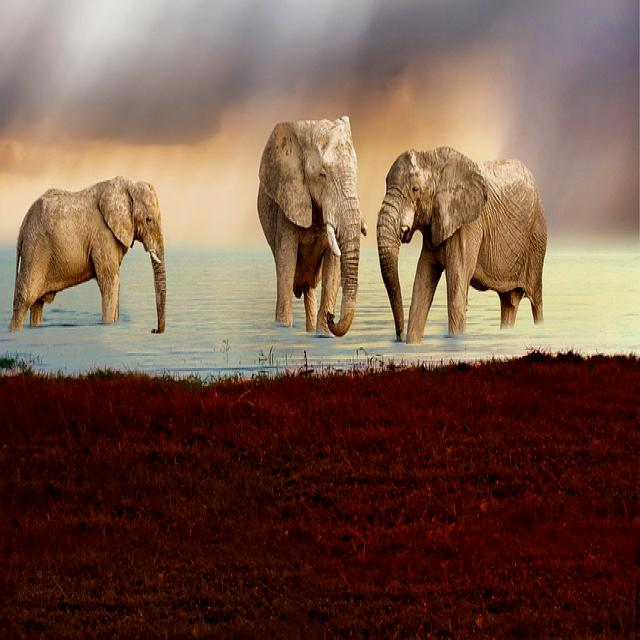FIL: (377, 142, 553, 332), (8, 163, 165, 340), (254, 109, 366, 339)
